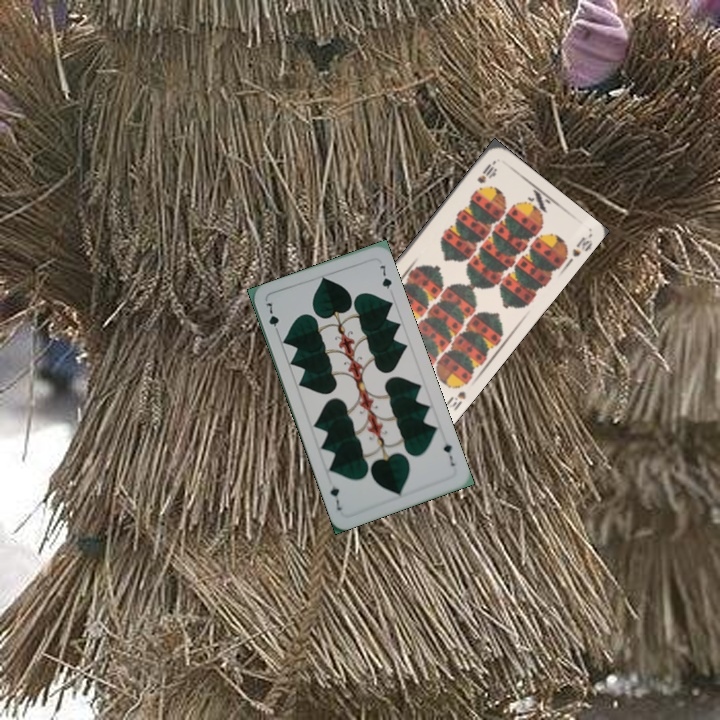G7: (262, 297, 282, 337), (439, 439, 457, 469)
S10: (473, 157, 498, 186), (442, 387, 469, 413)
